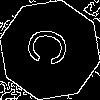C: (25, 25, 79, 71)
